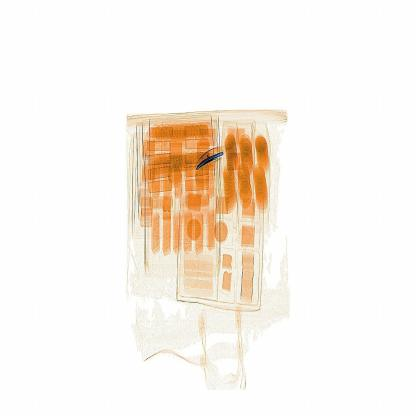pliers: (192, 142, 225, 175)
